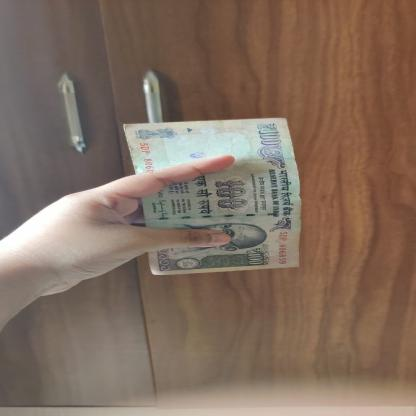Old100Front: (124, 117, 304, 276)
